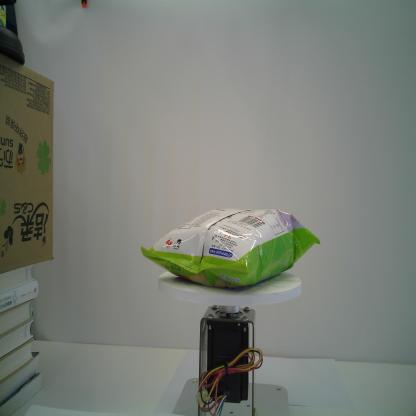Puffed Food: (140, 207, 322, 288)
